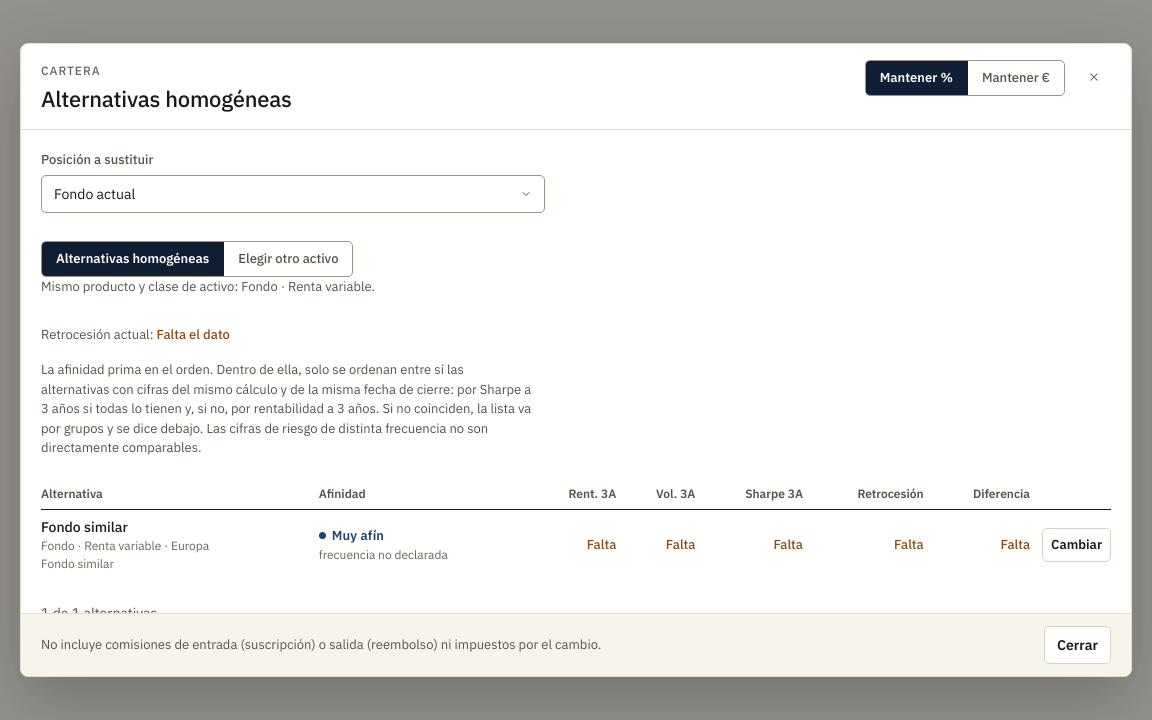
Test: sustituir una posición › DIS-26: con «Mantener €» se dice antes de cambiar que la nueva posición queda con importe fijo
expect the text "queda con importe fijo" is not shown: met
Click the button "Mantener €": [1015, 78] box x1=967 y1=61 x2=1064 y2=95
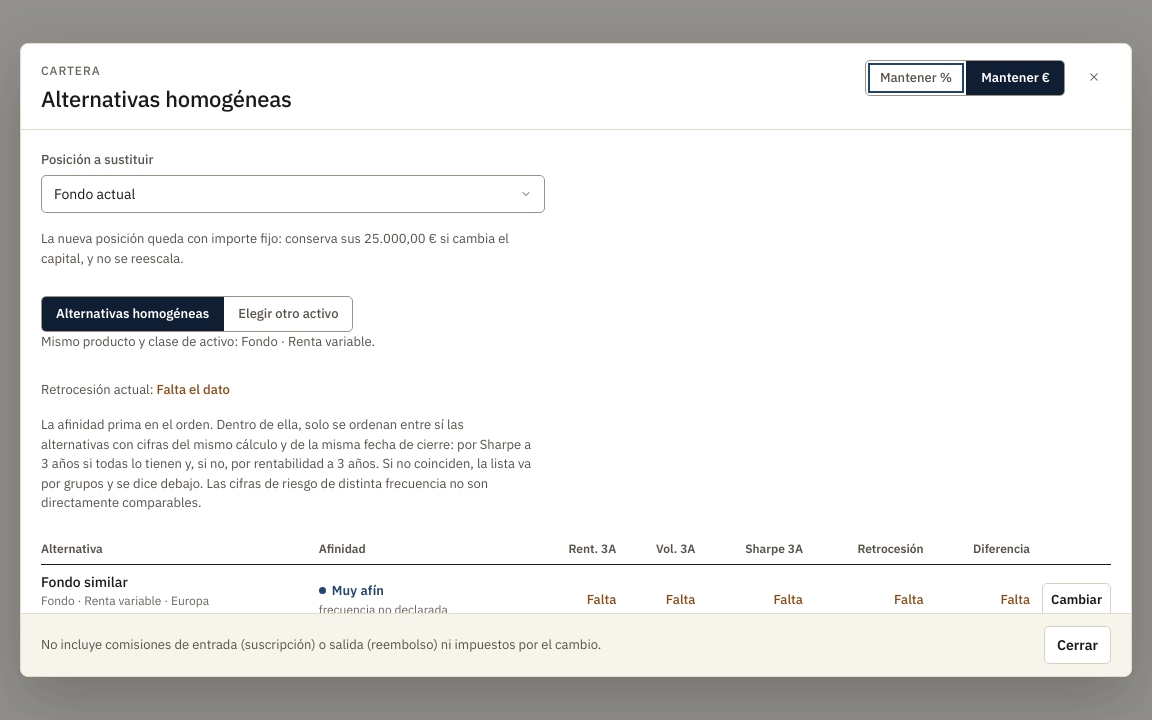
expect the text "La nueva posición queda con importe fijo: conserva sus 25.000,00 €" is shown: met, box x1=41 y1=230 x2=509 y2=267
